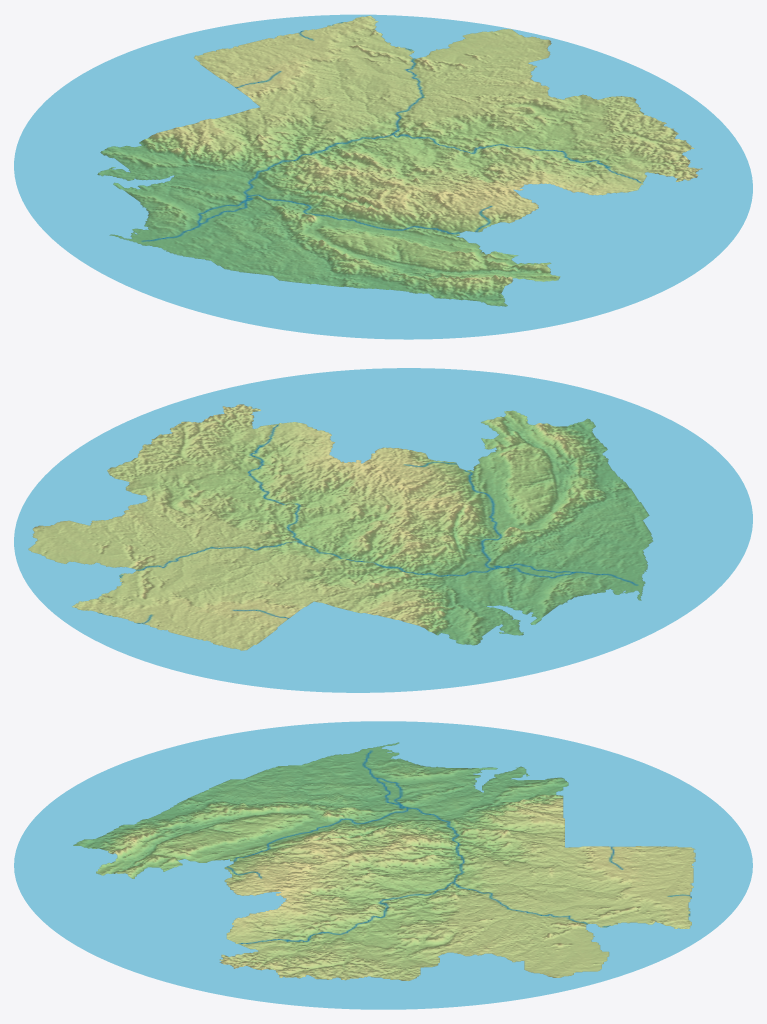
Rendered from GAB-terrain.glb.
3 views of the same model, one above another, from view 1: azimuth 30°, elevation 25°; view 2: azimuth 150°, elevation 25°; view 3: azimuth 270°, elevation 25° (orthographic). The views are drawn at different scales.
Visible parts, largest first — view 1: Relevo com hidrografia; view 2: Relevo com hidrografia; view 3: Relevo com hidrografia.
Part boxes in pixels (x1,y1,x2,y2): Relevo com hidrografia: (14,14,752,339); Relevo com hidrografia: (14,368,752,692); Relevo com hidrografia: (14,721,752,1009).
Bounding box in the file's own units: 1.76 × 0.0248 × 1.91.
2 materials, 1 textured.
